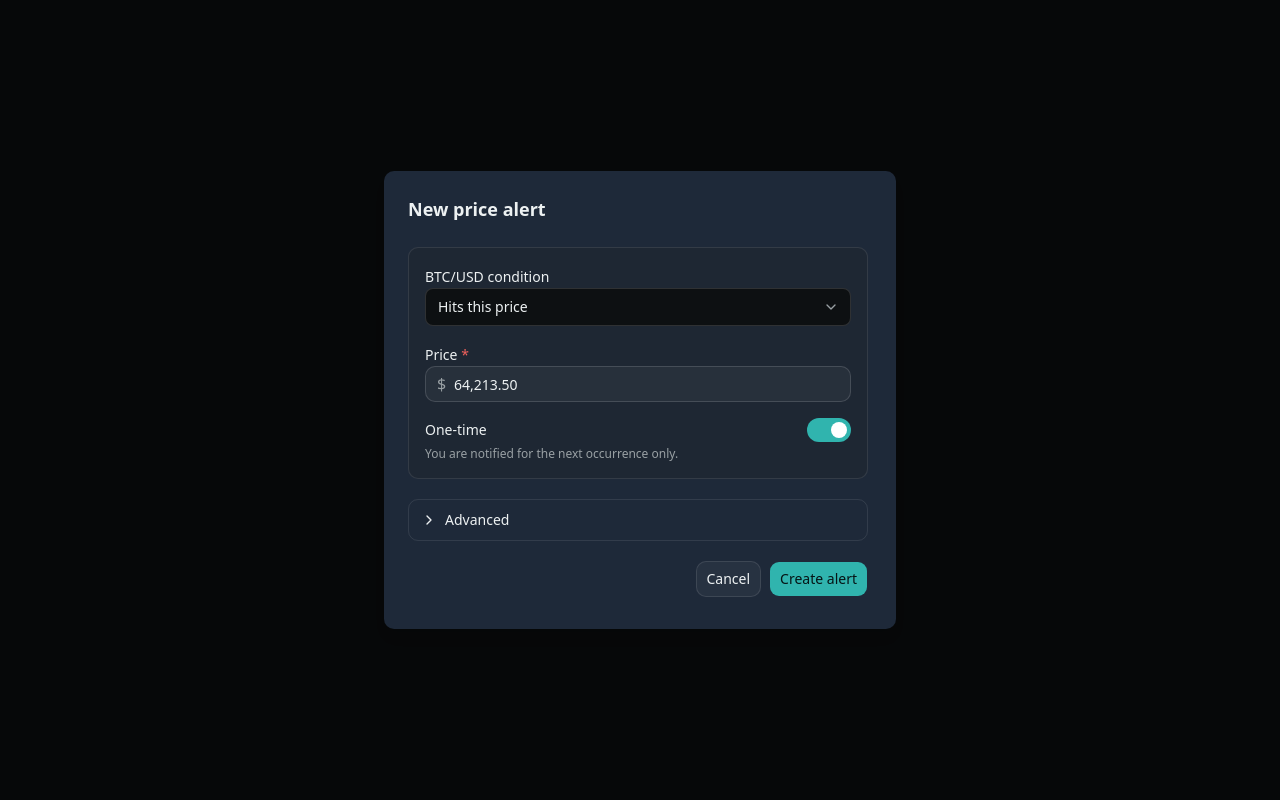
Test: PriceAlertForm › keeps the typed price when the condition changes
Type "85000" into the field labelled "Price *" at (638, 384), box [425, 366, 851, 402]
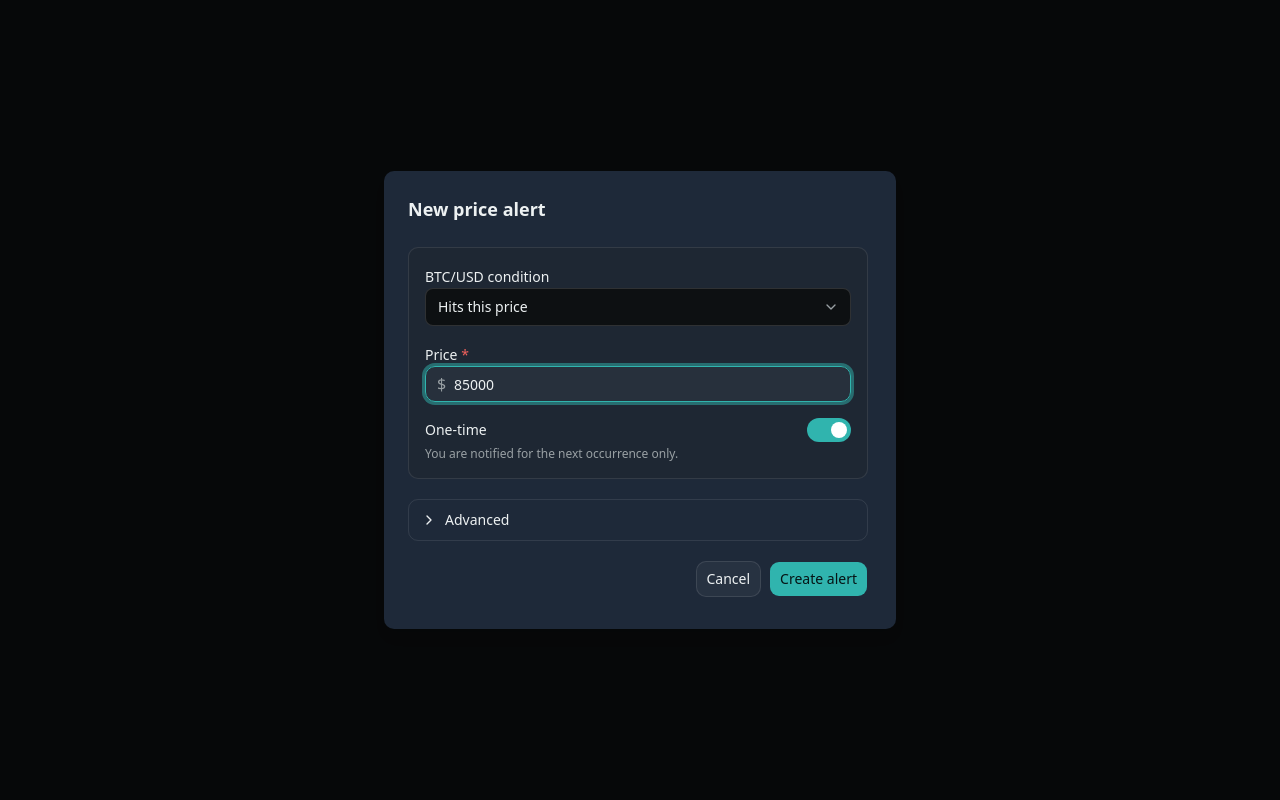
Press Tab
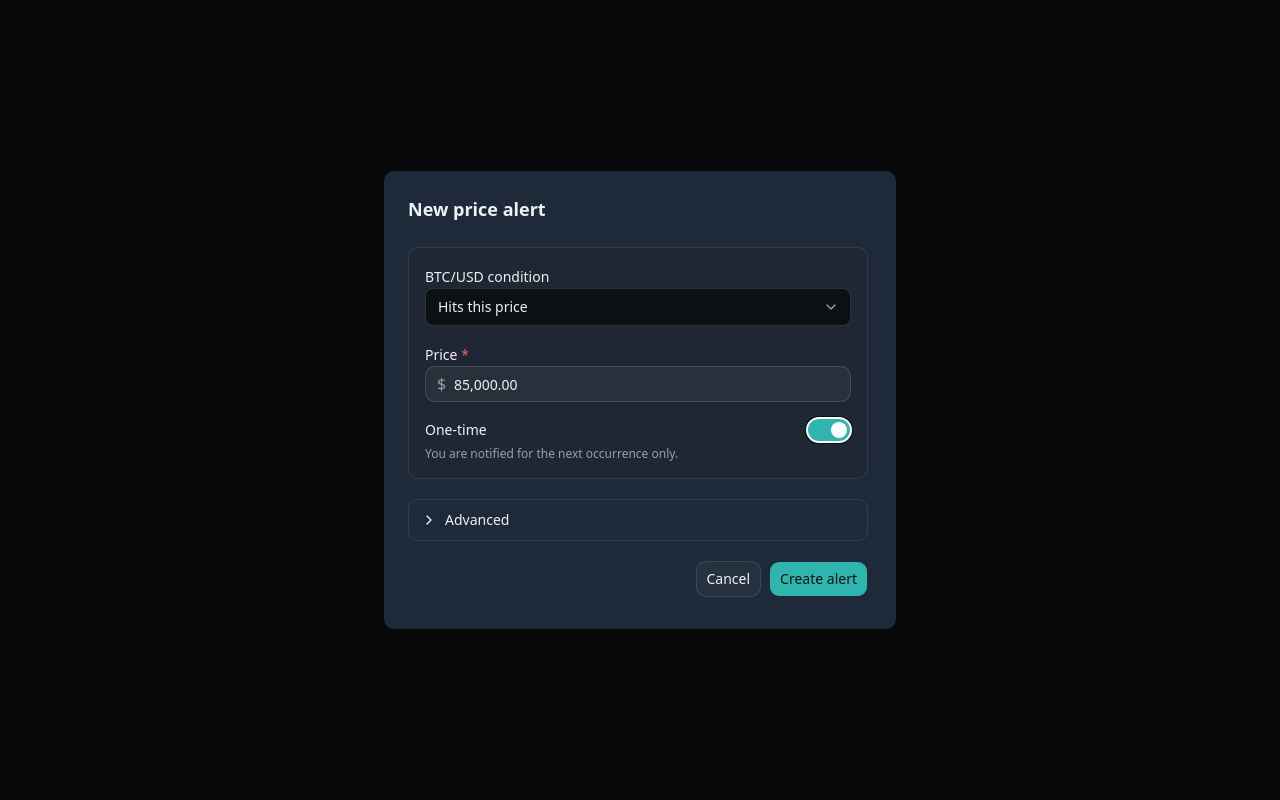
Result: the field labelled "Price *" holds "85,000.00" at [425, 366, 851, 402]
Click the button named "condition" at (483, 306), box [425, 288, 851, 326]
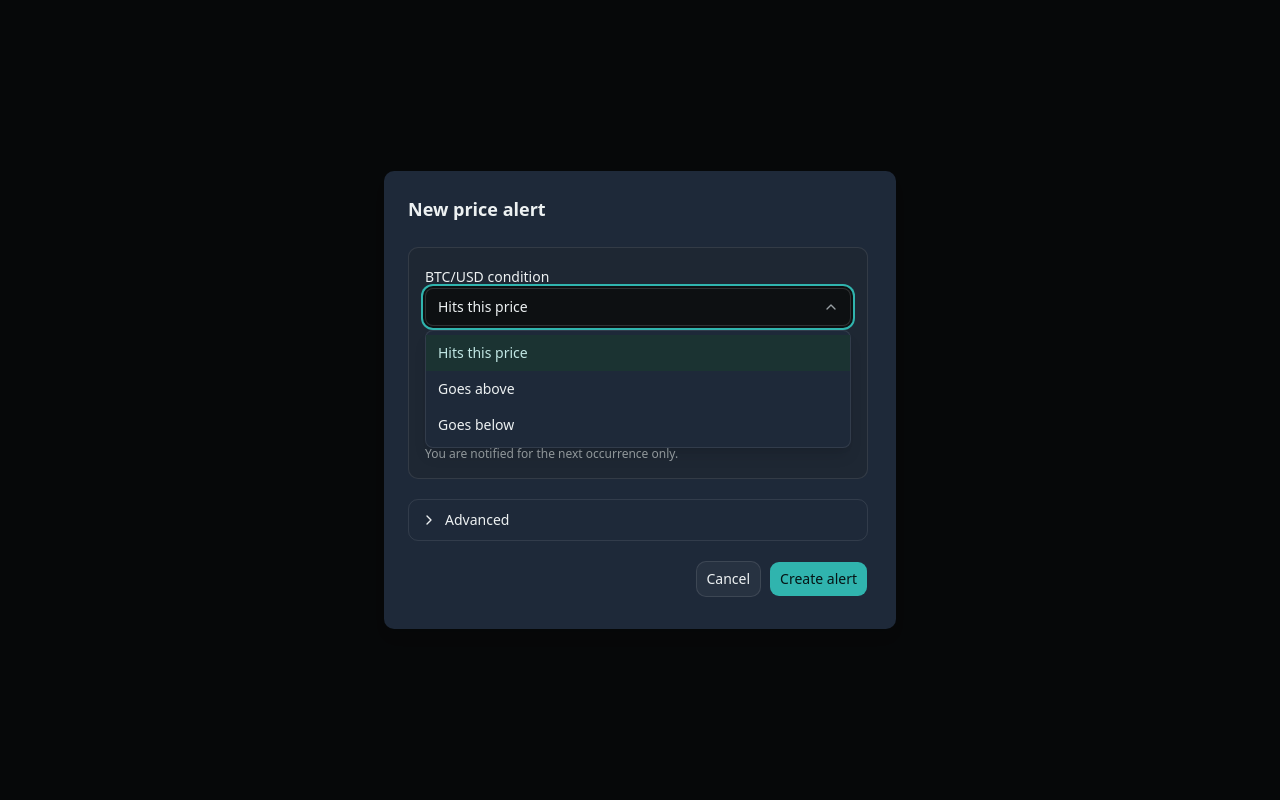
Click the button "Goes below" at (476, 424), box [426, 407, 850, 443]
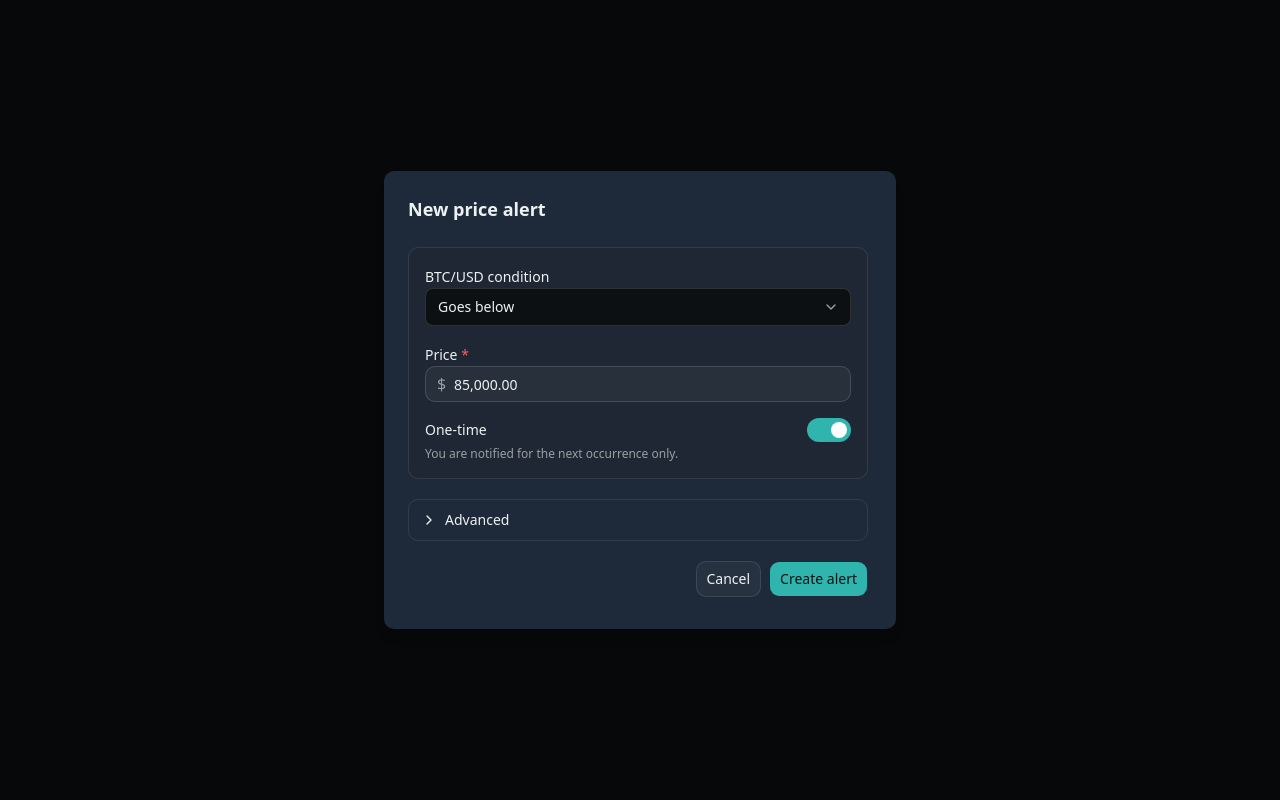
Result: the field labelled "Price *" holds "85,000.00" at [425, 366, 851, 402]
Result: the button named "condition" reads "Goes below" at [425, 288, 851, 326]
